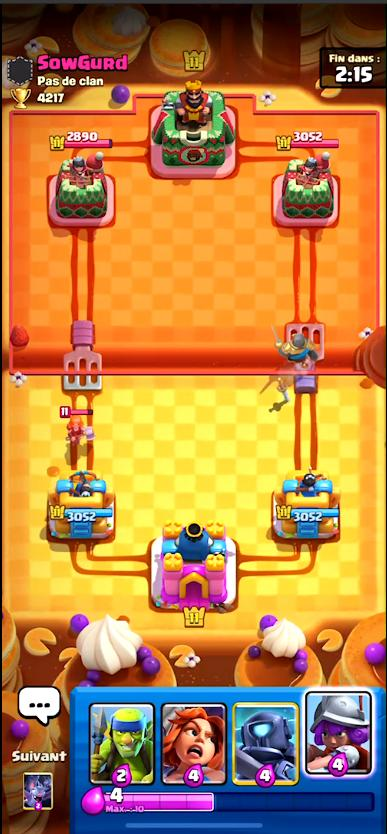chevalier: (274, 328, 319, 367)
valkyrie: (60, 405, 95, 446)
